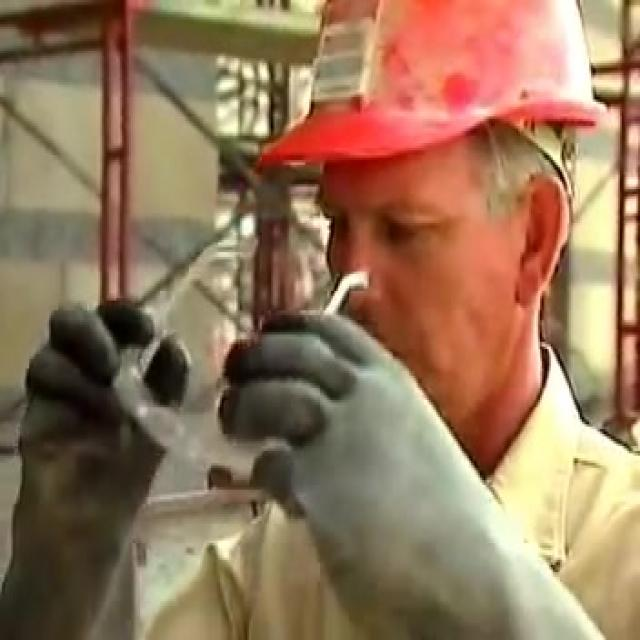Safety-Helmet: (250, 0, 618, 196)
